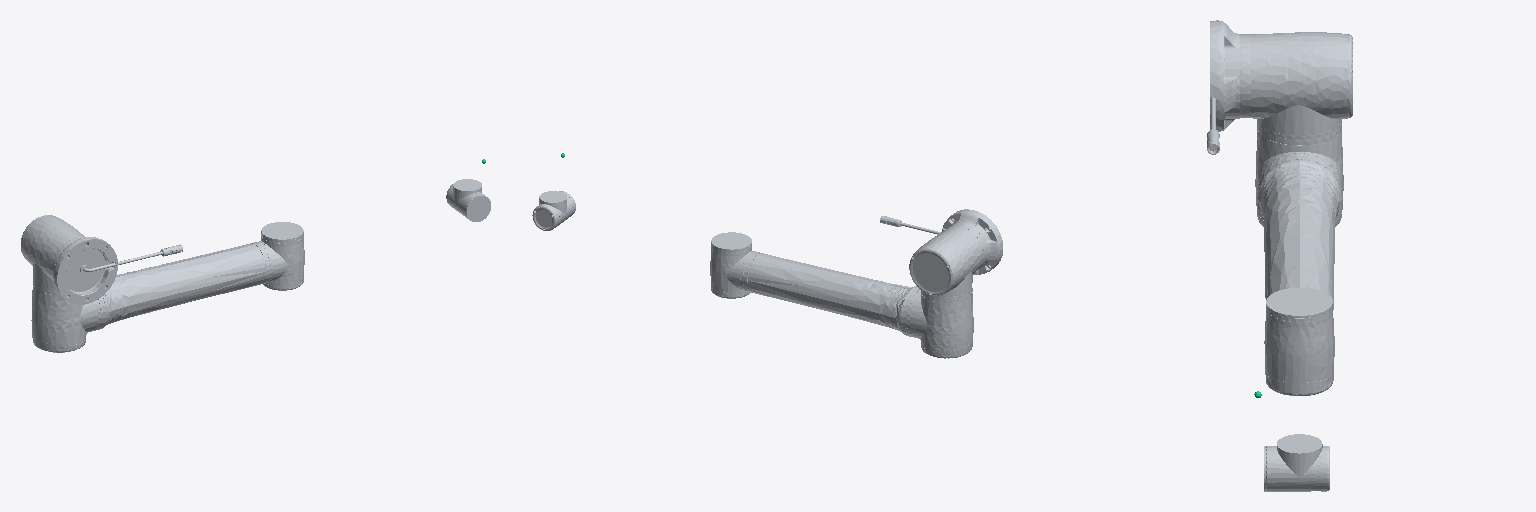
URDF robot description (jaka_zu20_real):
<?xml version="1.0" encoding="utf-8"?>
<robot name="jaka_zu20_real">
  <!-- JAKA zu20 — 真机 CAD（厂商官网 STEP，build_vendor_urdf.py 生成，coord=y_up_mm）。几何为真实外形，运动学（轴/限位）复用程序化 URDF。 -->
  <link name="base_link">
    <visual>
      <origin xyz="0 0 0" rpy="0 0 0"/>
      <geometry><mesh filename="meshes_real/base_link.stl"/></geometry>
      <material name="base_link_m"><color rgba="0.80 0.82 0.85 1"/></material>
    </visual>
    <collision>
      <origin xyz="0 0 0" rpy="0 0 0"/>
      <geometry><mesh filename="meshes_real/base_link.stl"/></geometry>
    </collision>
  </link>
  <link name="link_1">
    <visual>
      <origin xyz="0 0 0" rpy="0 0 0"/>
      <geometry><mesh filename="meshes_real/link_1.stl"/></geometry>
      <material name="link_1_m"><color rgba="0.80 0.82 0.85 1"/></material>
    </visual>
    <collision>
      <origin xyz="0 0 0" rpy="0 0 0"/>
      <geometry><mesh filename="meshes_real/link_1.stl"/></geometry>
    </collision>
  </link>
  <link name="link_2">
    <visual>
      <origin xyz="0 0 0" rpy="0 0 0"/>
      <geometry><mesh filename="meshes_real/link_2.stl"/></geometry>
      <material name="link_2_m"><color rgba="0.80 0.82 0.85 1"/></material>
    </visual>
    <collision>
      <origin xyz="0 0 0" rpy="0 0 0"/>
      <geometry><mesh filename="meshes_real/link_2.stl"/></geometry>
    </collision>
  </link>
  <link name="link_3">
    <visual>
      <origin xyz="0 0 0" rpy="0 0 0"/>
      <geometry><mesh filename="meshes_real/link_3.stl"/></geometry>
      <material name="link_3_m"><color rgba="0.80 0.82 0.85 1"/></material>
    </visual>
    <collision>
      <origin xyz="0 0 0" rpy="0 0 0"/>
      <geometry><mesh filename="meshes_real/link_3.stl"/></geometry>
    </collision>
  </link>
  <link name="link_4">
    <visual>
      <origin xyz="0 0 0" rpy="0 0 0"/>
      <geometry><mesh filename="meshes_real/link_4.stl"/></geometry>
      <material name="link_4_m"><color rgba="0.80 0.82 0.85 1"/></material>
    </visual>
    <collision>
      <origin xyz="0 0 0" rpy="0 0 0"/>
      <geometry><mesh filename="meshes_real/link_4.stl"/></geometry>
    </collision>
  </link>
  <link name="link_5">
    <visual>
      <origin xyz="0 0 0" rpy="0 0 0"/>
      <geometry><mesh filename="meshes_real/link_5.stl"/></geometry>
      <material name="link_5_m"><color rgba="0.80 0.82 0.85 1"/></material>
    </visual>
    <collision>
      <origin xyz="0 0 0" rpy="0 0 0"/>
      <geometry><mesh filename="meshes_real/link_5.stl"/></geometry>
    </collision>
  </link>
  <link name="tool0">
    <visual>
      <origin xyz="0 0 0" rpy="0 0 0"/>
      <geometry><mesh filename="meshes_real/tool0.stl"/></geometry>
      <material name="tool0_m"><color rgba="0.80 0.82 0.85 1"/></material>
    </visual>
    <collision>
      <origin xyz="0 0 0" rpy="0 0 0"/>
      <geometry><mesh filename="meshes_real/tool0.stl"/></geometry>
    </collision>
  </link>
  <link name="tcp">
    <visual>
      <origin xyz="0 0 0" rpy="0 0 0"/>
      <geometry><sphere radius="0.008"/></geometry>
      <material name="tcp_m"><color rgba="0.15 0.85 0.55 1"/></material>
    </visual>
  </link>
  <joint name="joint_1" type="revolute">
    <parent link="base_link"/>
    <child link="link_1"/>
    <origin xyz="0.0974104 0.065 0.000278343" rpy="0 0 0"/>
    <axis xyz="0 0 1"/>
    <limit lower="-6.28318" upper="6.28318" effort="160" velocity="2.0944"/>
  </joint>
  <joint name="joint_2" type="revolute">
    <parent link="link_1"/>
    <child link="link_2"/>
    <origin xyz="-0.093 0.2245 -0.101" rpy="0 0 0"/>
    <axis xyz="0 1 0"/>
    <limit lower="-1.48353" upper="4.62512" effort="160" velocity="2.0944"/>
  </joint>
  <joint name="joint_3" type="revolute">
    <parent link="link_2"/>
    <child link="link_3"/>
    <origin xyz="0.823 -0.093 -0.02885" rpy="0 0 0"/>
    <axis xyz="0 1 0"/>
    <limit lower="-3.05433" upper="3.05433" effort="160" velocity="2.0944"/>
  </joint>
  <joint name="joint_4" type="revolute">
    <parent link="link_3"/>
    <child link="link_4"/>
    <origin xyz="0.768 2.84217e-14 0.0016" rpy="0 0 0"/>
    <axis xyz="0 0 1"/>
    <limit lower="-1.48353" upper="4.62512" effort="160" velocity="3.83972"/>
  </joint>
  <joint name="joint_5" type="revolute">
    <parent link="link_4"/>
    <child link="link_5"/>
    <origin xyz="0.0565871 -0.0784 -0.0099682" rpy="0 0 0"/>
    <axis xyz="0 1 0"/>
    <limit lower="-6.28318" upper="6.28318" effort="160" velocity="3.83972"/>
  </joint>
  <joint name="joint_6" type="revolute">
    <parent link="link_5"/>
    <child link="tool0"/>
    <origin xyz="0.00649446 -0.013145 0.0282682" rpy="0 0 0"/>
    <axis xyz="0 0 1"/>
    <limit lower="-6.28318" upper="6.28318" effort="160" velocity="3.83972"/>
  </joint>
  <joint name="tcp_joint" type="fixed">
    <parent link="tool0"/>
    <child link="tcp"/>
    <origin xyz="0 0 0.1068" rpy="0 0 0"/>
  </joint>
</robot>

--- Facts derived from the render (not from the file) ---
Views: 3 orthographic renders of the robot side by side, from view 1: azimuth 30°, elevation 25°; view 2: azimuth 150°, elevation 25°; view 3: azimuth 270°, elevation 25°.
Model jaka_zu20_real with 8 links and 7 joints (6 revolute, 1 fixed), rooted at base_link, posed every joint at zero.
Visible links, largest first — view 1: link_2, base_link, link_1, link_4; view 2: link_2, link_1, base_link, link_4; view 3: link_2, link_1, link_4, base_link.
Link boxes in pixels (x1,y1,x2,y2): link_2: (31,222,304,352); base_link: (53,237,182,304); link_1: (21,215,84,288); link_4: (446,179,490,221); link_2: (710,232,973,358); link_1: (909,224,986,296); base_link: (880,209,1002,274); link_4: (532,191,575,230); link_2: (1255,119,1343,395); link_1: (1240,32,1352,135); link_4: (1264,434,1329,491); base_link: (1207,20,1239,154).
Bounding box of the posed robot: 1.81 × 0.3214 × 0.473 m (x, y, z).
Meshes: 7 distinct files referenced, 4 mesh visuals loaded (4 binary STL); not drawn: 3 (reference not matched to a file when rendering).
